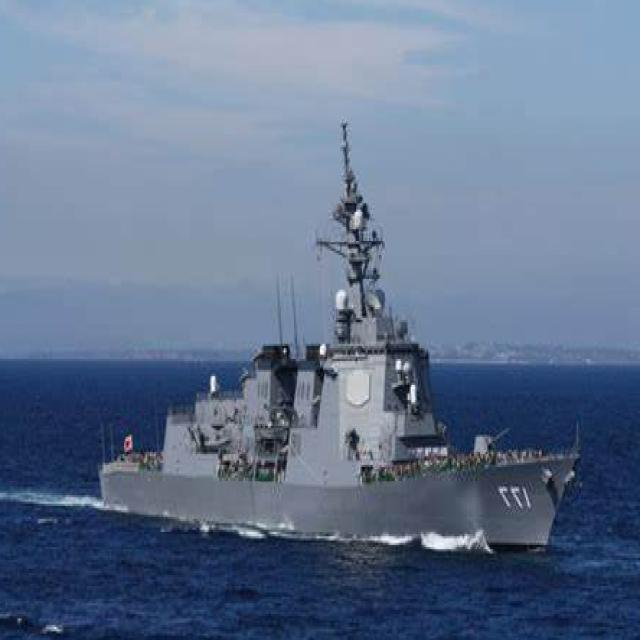navalvessels: (68, 100, 584, 548)
